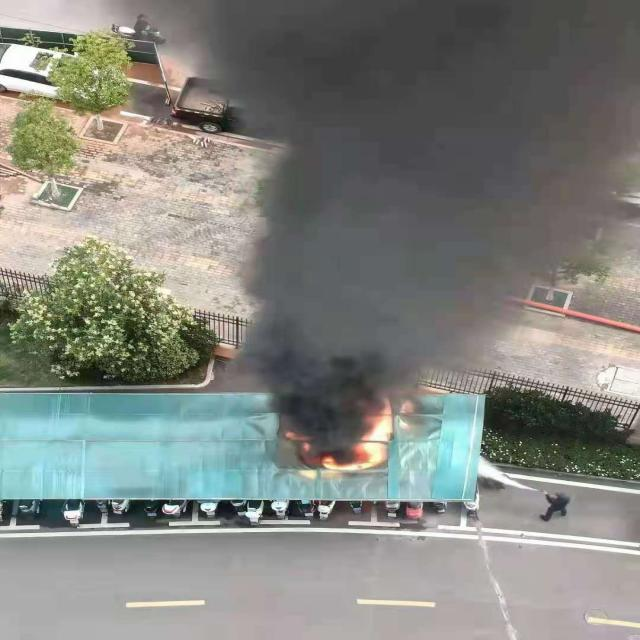Smoke: (136, 0, 640, 455)
